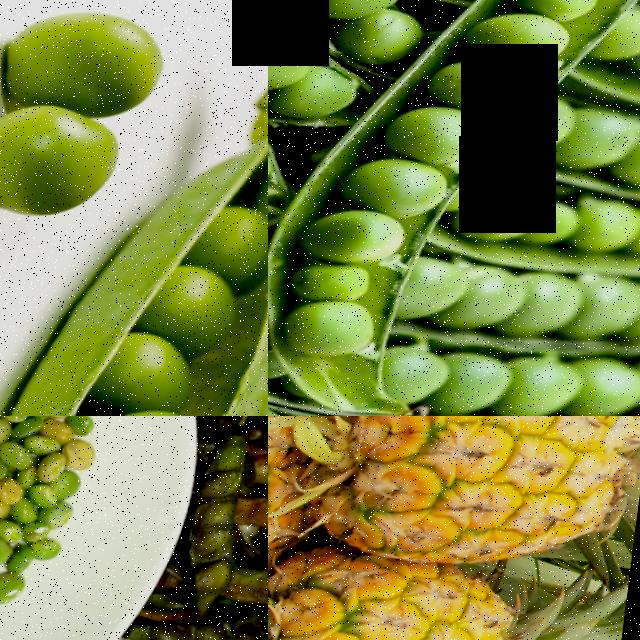peas: (0, 201, 268, 416), (290, 109, 504, 352), (0, 0, 190, 232), (407, 252, 640, 346), (0, 416, 103, 627), (268, 0, 445, 121), (438, 0, 640, 101), (404, 335, 640, 416), (517, 100, 640, 200)
pineapple: (301, 416, 640, 569), (268, 558, 605, 640)
